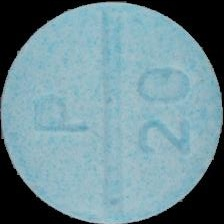50436-4313: (0, 0, 224, 224)
